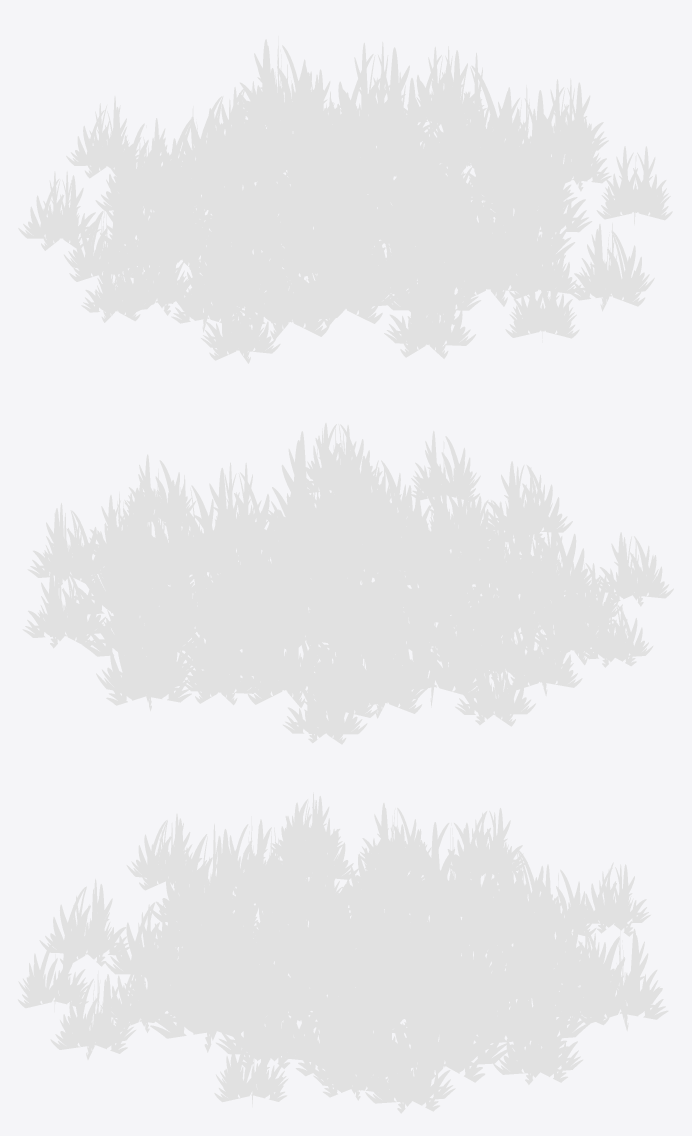
File: Mesh_Veg_TallGrass_01.fbx
3 renders of one model, top to bottom at view 1: azimuth 30°, elevation 25°; view 2: azimuth 150°, elevation 25°; view 3: azimuth 270°, elevation 25°, orthographic.
Parts seen in each view (by area): view 1: Mesh_Veg_TallGrass_01_LOD0; view 2: Mesh_Veg_TallGrass_01_LOD0; view 3: Mesh_Veg_TallGrass_01_LOD0.
Boxes of the visible parts, left/top/right/bottom form: Mesh_Veg_TallGrass_01_LOD0: left=18, top=36, right=672, bottom=363; Mesh_Veg_TallGrass_01_LOD0: left=22, top=423, right=673, bottom=744; Mesh_Veg_TallGrass_01_LOD0: left=17, top=792, right=668, bottom=1113.
Size of what is drawn, in the model's own units: 6.29 by 1.2 by 6.23.
